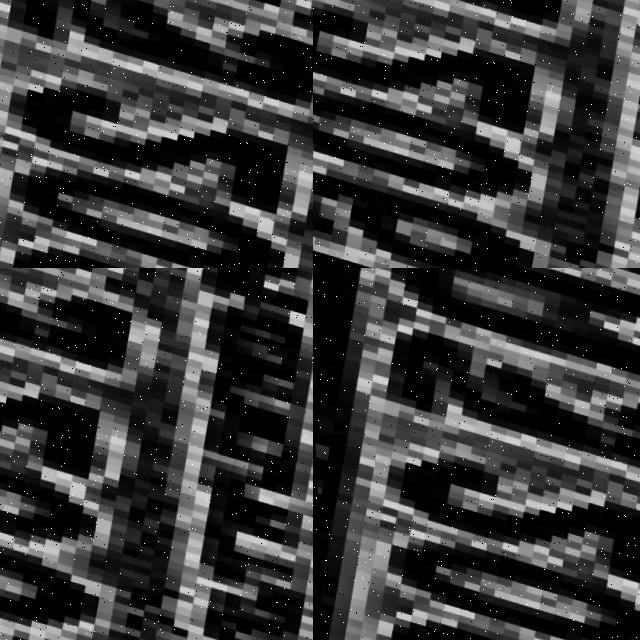license-plate: (313, 268, 640, 640), (0, 268, 313, 640), (0, 0, 313, 268)
